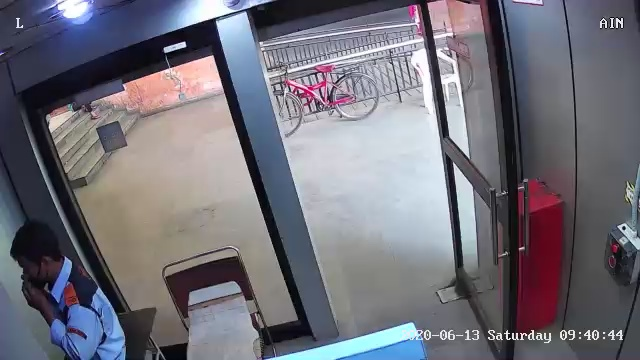open: (396, 3, 558, 358)
